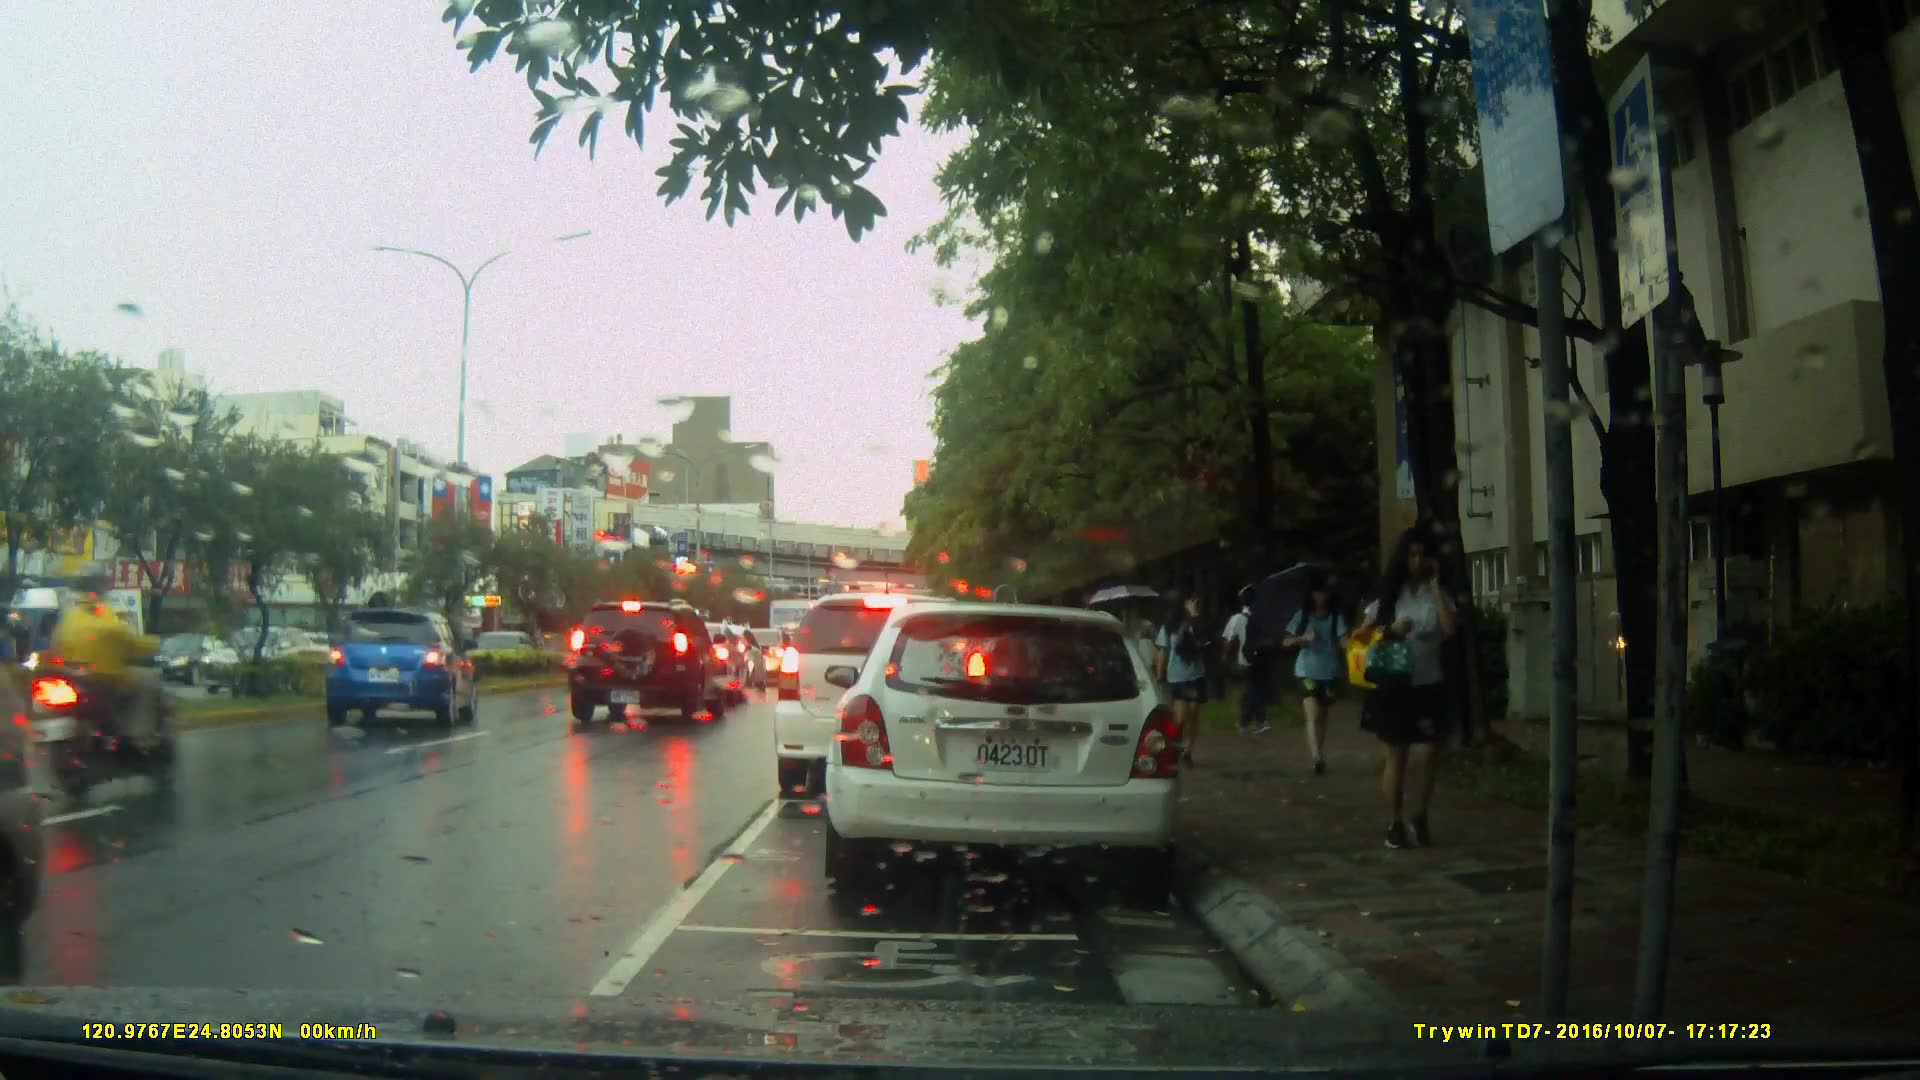pedestrian: (1373, 523, 1479, 858), (1283, 572, 1347, 780), (1161, 574, 1224, 761)
rider: (26, 563, 183, 807)
vehicle: (815, 593, 1204, 909), (771, 590, 995, 802), (564, 599, 731, 726), (321, 607, 480, 731), (1, 584, 150, 686)
